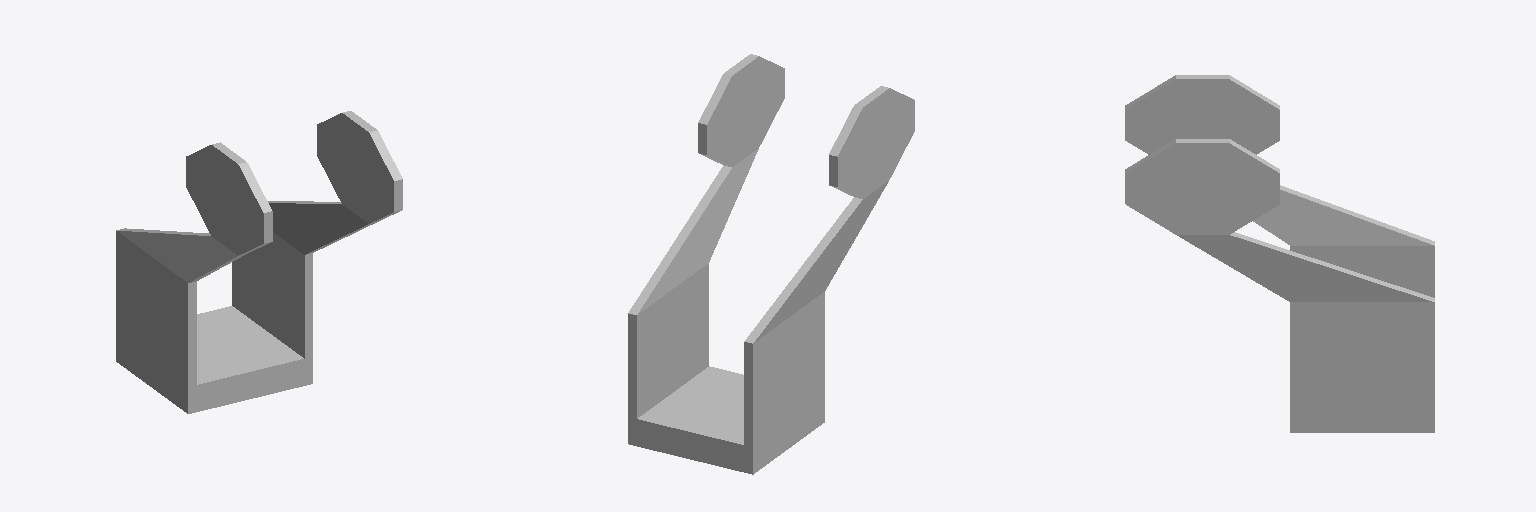
The model's file is MachineGunTurretMount.obj.
3 views of the same model, side by side, from view 1: azimuth 30°, elevation 25°; view 2: azimuth 150°, elevation 25°; view 3: azimuth 270°, elevation 25° (orthographic).
Visible parts, largest first — view 1: M2BrowningMount; view 2: M2BrowningMount; view 3: M2BrowningMount.
Boxes of the visible parts, x1,y1,x2,y2 form: M2BrowningMount: [116, 111, 402, 413]; M2BrowningMount: [628, 54, 914, 474]; M2BrowningMount: [1125, 75, 1434, 432].
Bounding box in the file's own units: 0.3183 × 0.6405 × 0.6118.